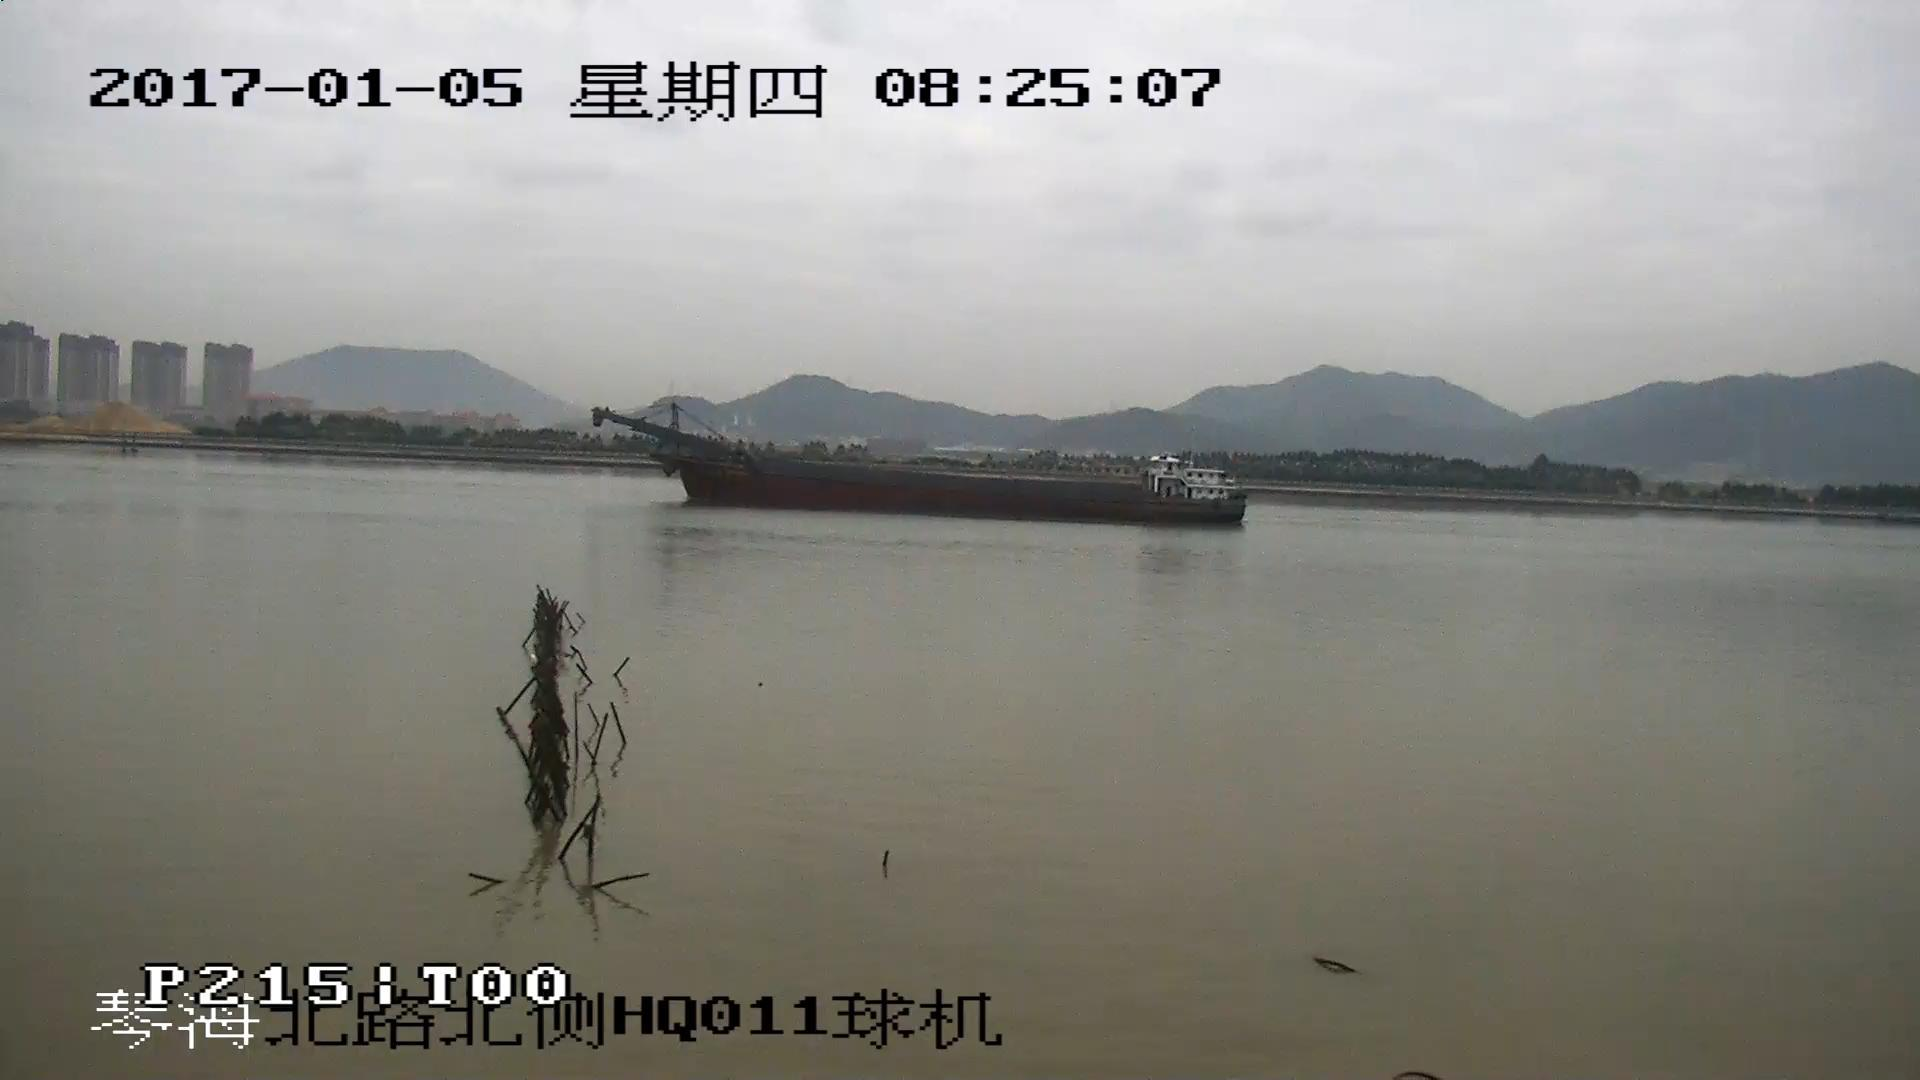Ship: (597, 406, 1245, 520)
